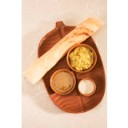dosa: (17, 15, 106, 83)
